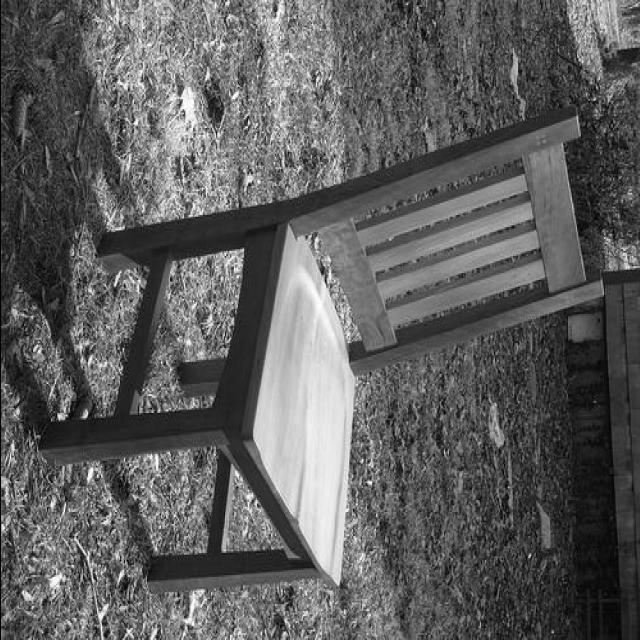chair: (39, 101, 604, 592)
